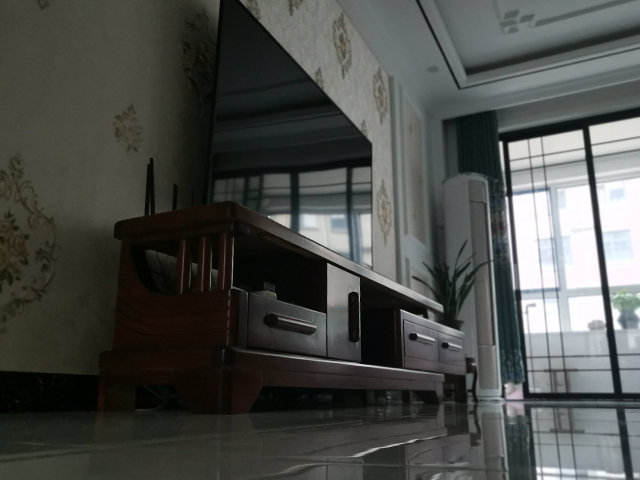cabinet: (92, 198, 470, 416)
curtain: (454, 110, 527, 385)
wire: (133, 386, 171, 414)
